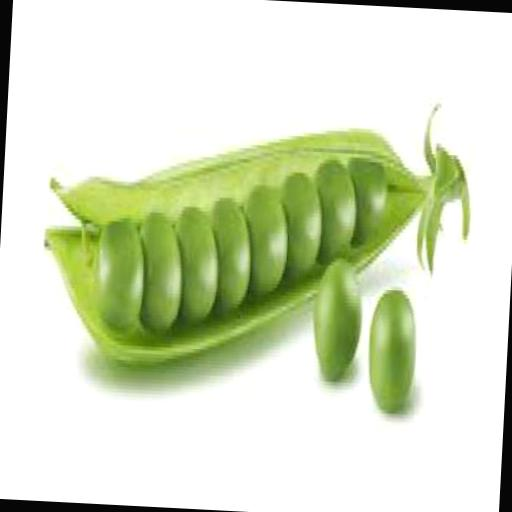biodegradable: (34, 76, 475, 374), (310, 250, 362, 380), (132, 207, 184, 334), (204, 190, 254, 320), (364, 285, 416, 408), (92, 213, 145, 328), (168, 202, 219, 318), (238, 184, 288, 299), (308, 151, 360, 259), (275, 168, 324, 280), (340, 154, 388, 246)
